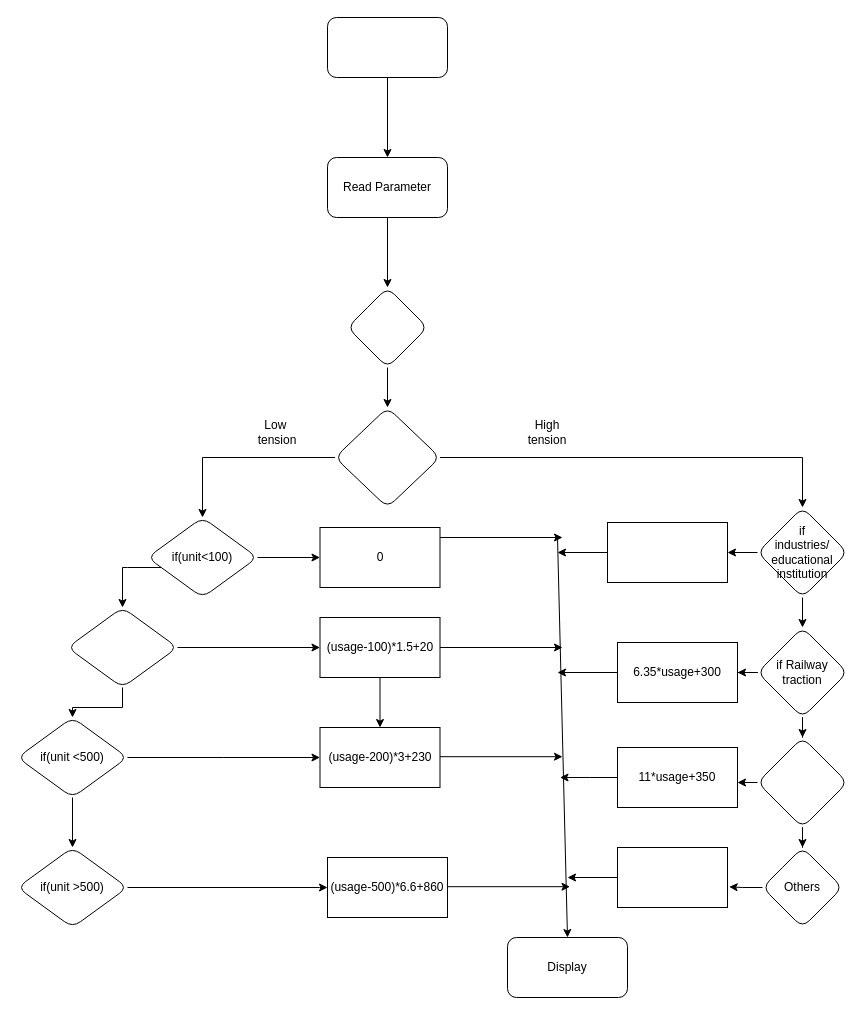
Some shapes in this 865 by 1015 pixel diagram are drawn without their labels. The shapes that lost their labels are listed below. From the top down, each one's box as (x1, y1, x2, y2) in pixels, then its label:
(326, 16, 448, 78): Start
(346, 286, 428, 368): Calculate usage
(334, 406, 440, 508): Select low tension / High tension
(606, 522, 728, 582): 6.35*usage+350
(66, 606, 178, 688): if(unit <200)
(756, 736, 848, 828): Temporary construction site
(616, 846, 728, 908): 8.00*usage+350
